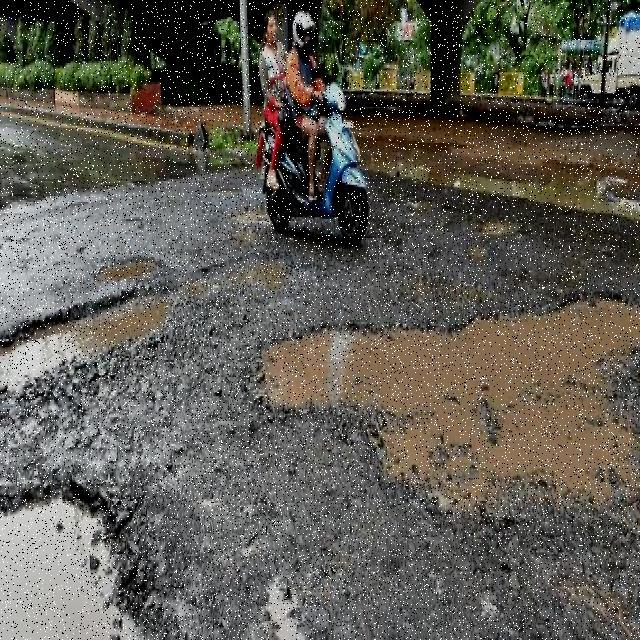Pothole: (262, 303, 640, 640), (0, 255, 292, 394), (0, 484, 176, 640), (93, 257, 158, 284)
